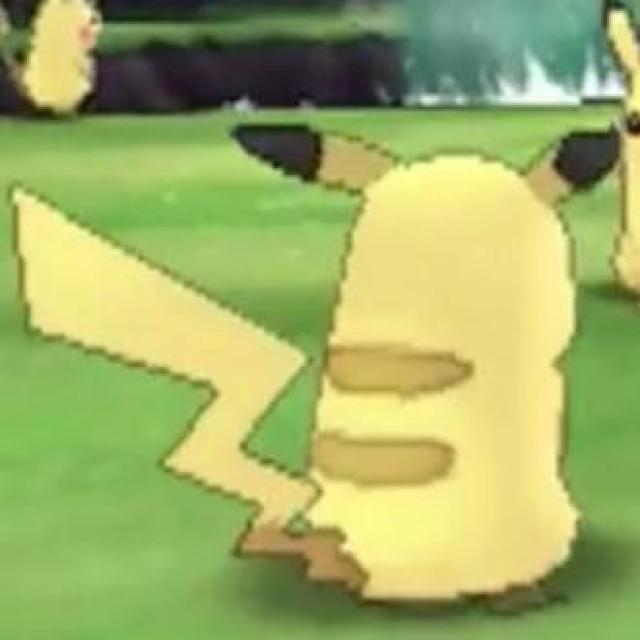pikachu: (18, 126, 623, 607)
